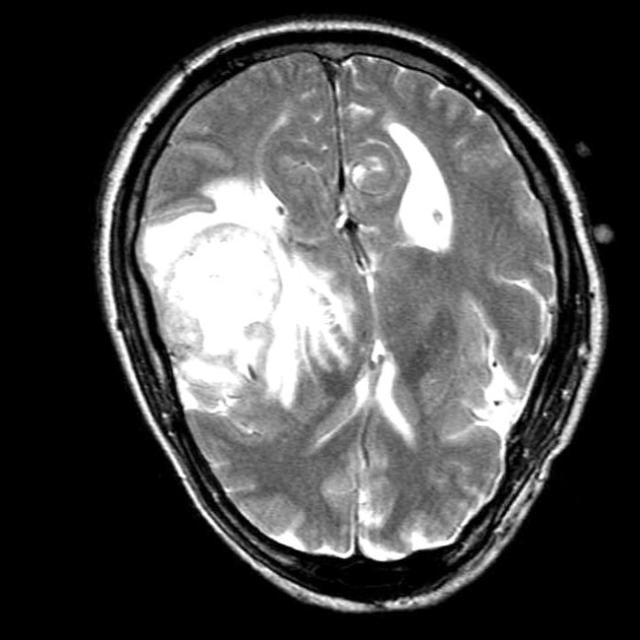Tumor: (151, 221, 275, 419)
